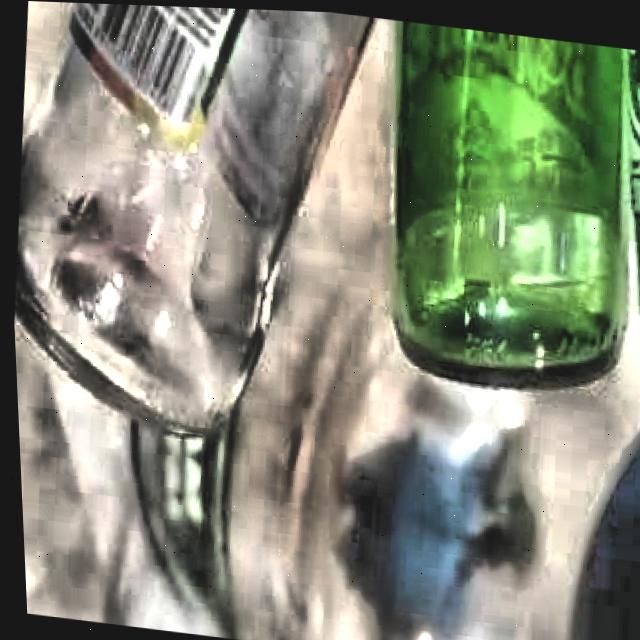glass: (11, 2, 371, 429), (388, 17, 640, 384)
